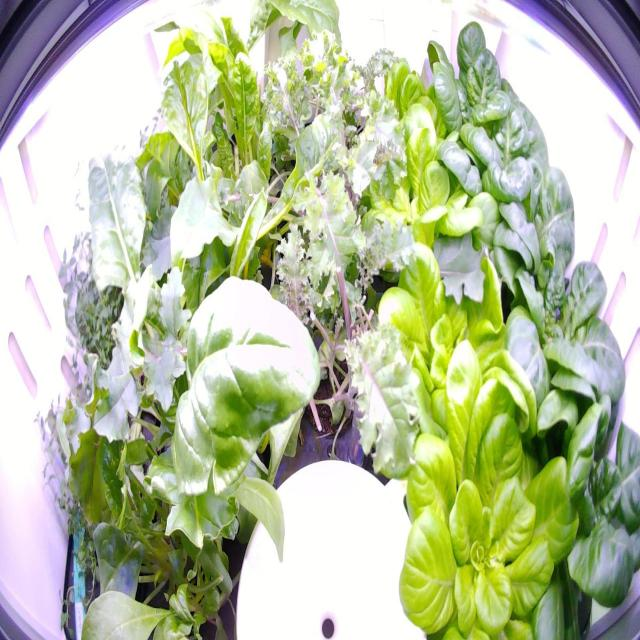young: (378, 329, 586, 637), (347, 229, 540, 475), (469, 206, 631, 462), (514, 356, 640, 618), (434, 96, 577, 294), (346, 107, 492, 278), (422, 18, 548, 161), (334, 33, 462, 171)
